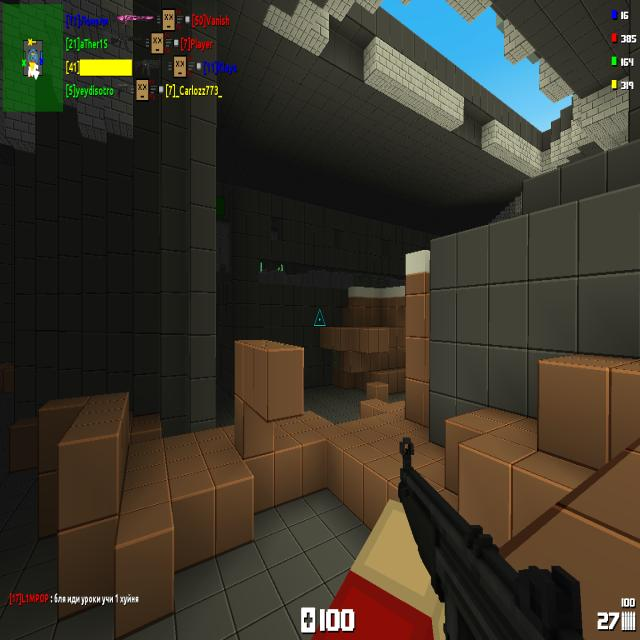enemy: (276, 263, 282, 271), (260, 262, 262, 273)
